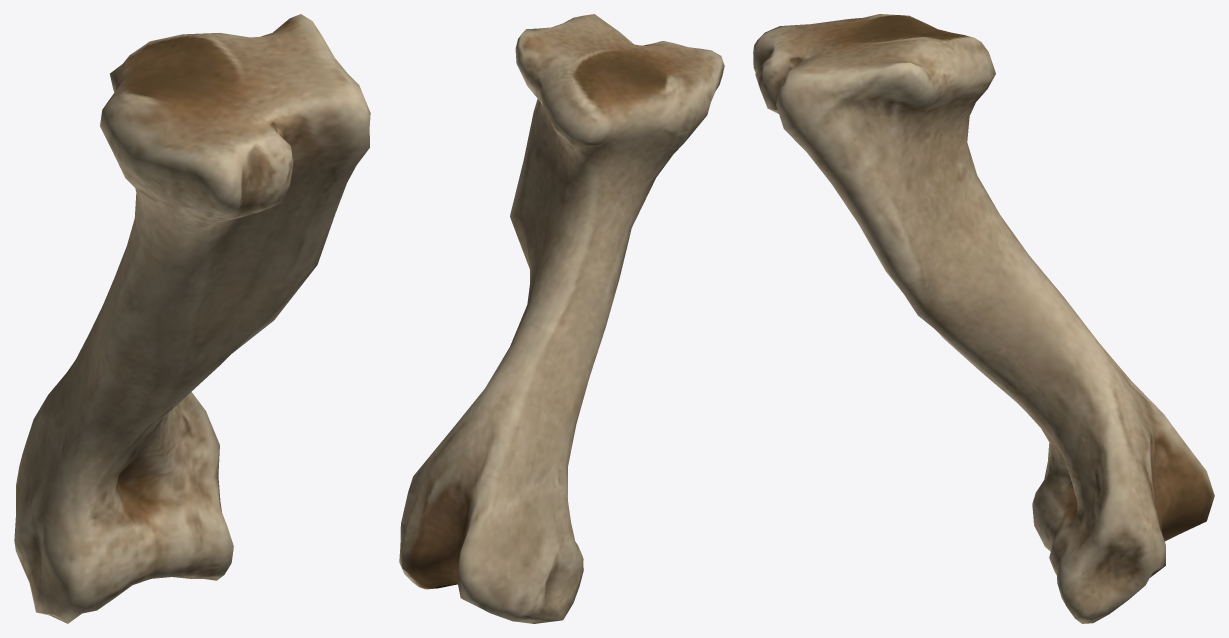
Rendered from Humerus.glb.
3 renders of one model, left to right at view 1: azimuth 30°, elevation 25°; view 2: azimuth 150°, elevation 25°; view 3: azimuth 270°, elevation 25°, orthographic. The views are drawn at different scales.
Parts seen in each view (by area): view 1: L_Frt_Humerus; view 2: L_Frt_Humerus; view 3: L_Frt_Humerus.
Boxes of the visible parts, box(x1,y1,x2,y2) form: L_Frt_Humerus: box(14, 14, 370, 623); L_Frt_Humerus: box(399, 14, 724, 623); L_Frt_Humerus: box(753, 14, 1214, 623).
Bounding box in the file's own units: 0.11 × 0.2831 × 0.2136.
1 material, 1 textured.
